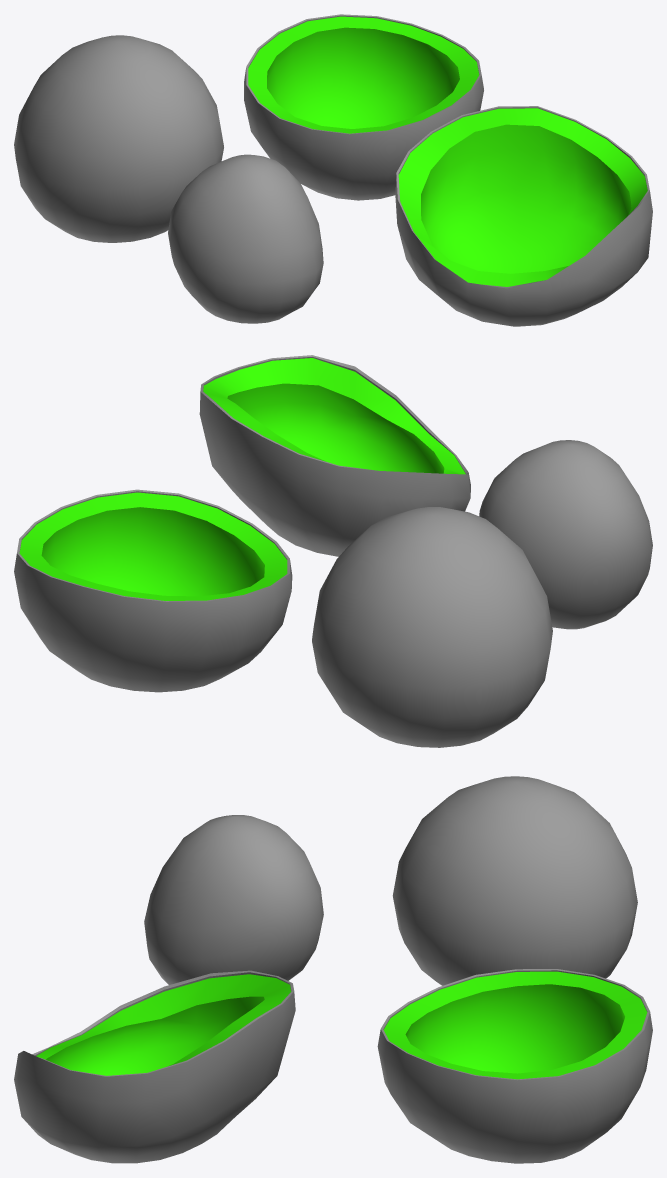
The model's file is coconut.FBX.
The picture shows the model from 3 angles, top to bottom: view 1: azimuth 30°, elevation 25°; view 2: azimuth 150°, elevation 25°; view 3: azimuth 270°, elevation 25°; orthographic projection. The views are drawn at different scales.
Parts seen in each view (by area): view 1: Sphere002, Object003, Sphere001, Sphere003, Object002, Object001; view 2: Sphere002, Object001, Sphere001, Sphere003, Object002, Object003; view 3: Sphere002, Object002, Sphere001, Object001, Sphere003, Object003.
Part boxes in pixels (bbox=[...]): Sphere002: bbox=[14, 35, 223, 242]; Object003: bbox=[398, 108, 647, 286]; Sphere001: bbox=[168, 154, 323, 323]; Sphere003: bbox=[248, 16, 478, 133]; Object002: bbox=[395, 106, 652, 326]; Object001: bbox=[244, 14, 483, 200]; Sphere002: bbox=[312, 507, 552, 747]; Object001: bbox=[14, 489, 292, 692]; Sphere001: bbox=[479, 440, 652, 629]; Sphere003: bbox=[19, 492, 287, 600]; Object002: bbox=[199, 355, 470, 556]; Object003: bbox=[203, 358, 465, 474]; Sphere002: bbox=[392, 776, 637, 985]; Object002: bbox=[14, 970, 295, 1163]; Sphere001: bbox=[144, 815, 323, 984]; Object001: bbox=[377, 969, 652, 1163]; Sphere003: bbox=[384, 971, 647, 1079]; Object003: bbox=[36, 974, 291, 1075].
Bounding box in the file's own units: 58.65 × 25.49 × 63.6.
